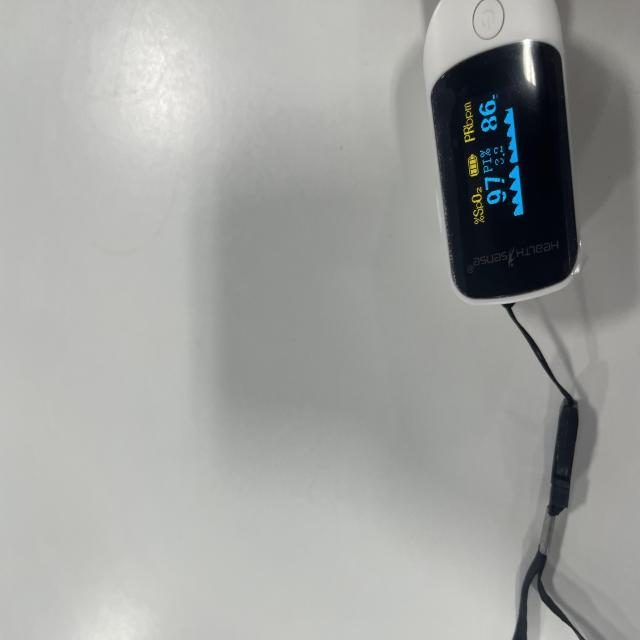spo2: (422, 0, 582, 307)
